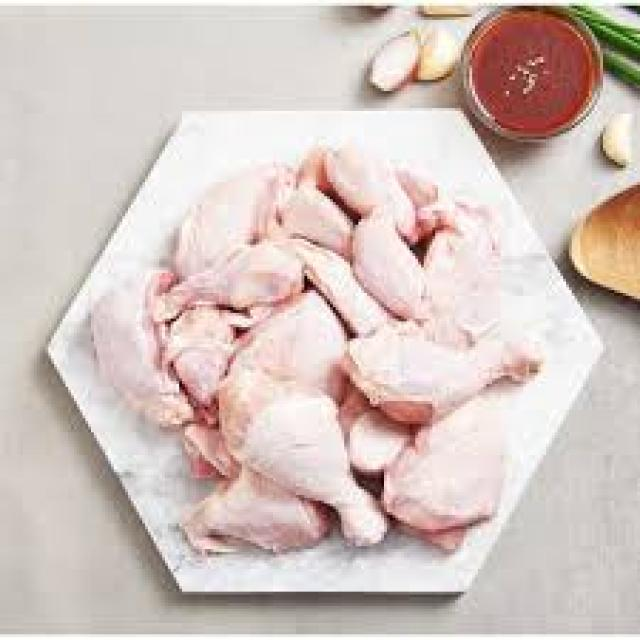chicken: (202, 275, 395, 548), (324, 297, 542, 417), (163, 155, 315, 311), (374, 383, 501, 554), (328, 134, 427, 322), (87, 273, 196, 422), (178, 451, 340, 551), (157, 271, 246, 413), (421, 208, 496, 348)
